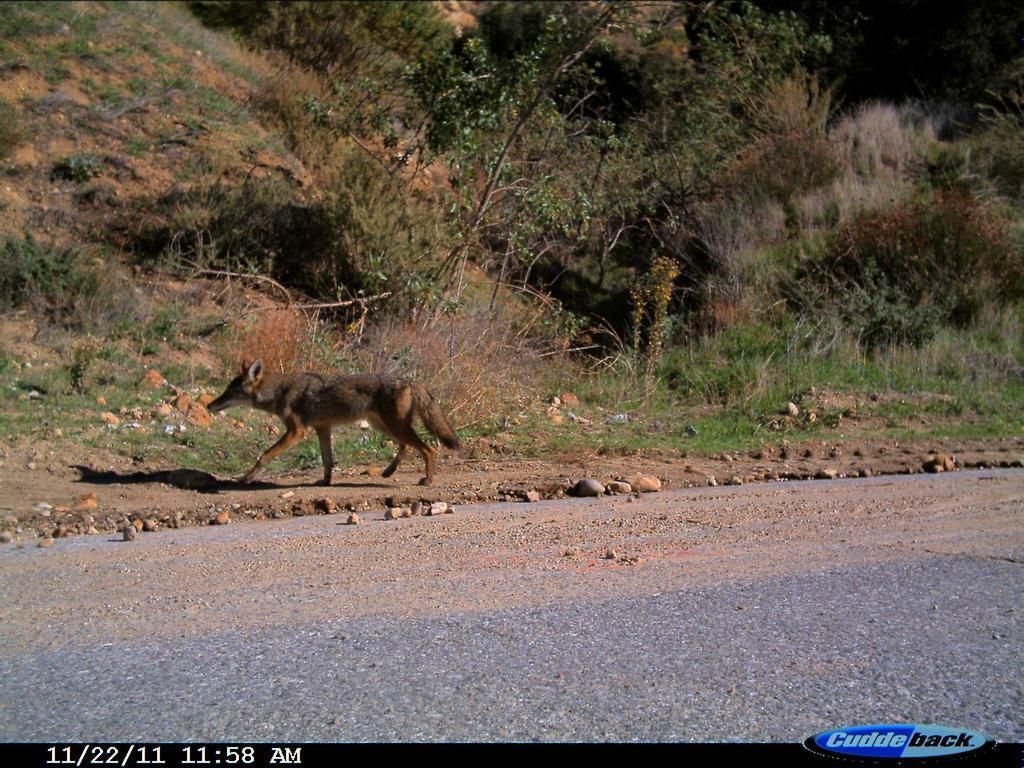coyote: (202, 354, 469, 495)
